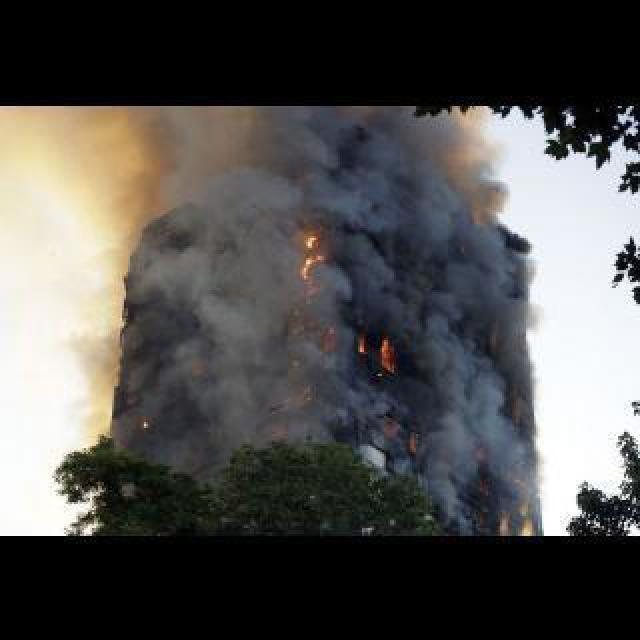Fire: (294, 220, 334, 296), (356, 336, 410, 378)
Smoke: (64, 108, 296, 458), (410, 130, 564, 532)
